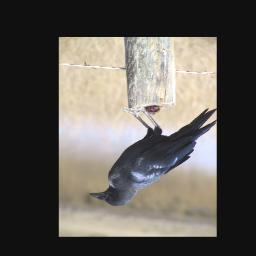Crow: (87, 105, 216, 208)
